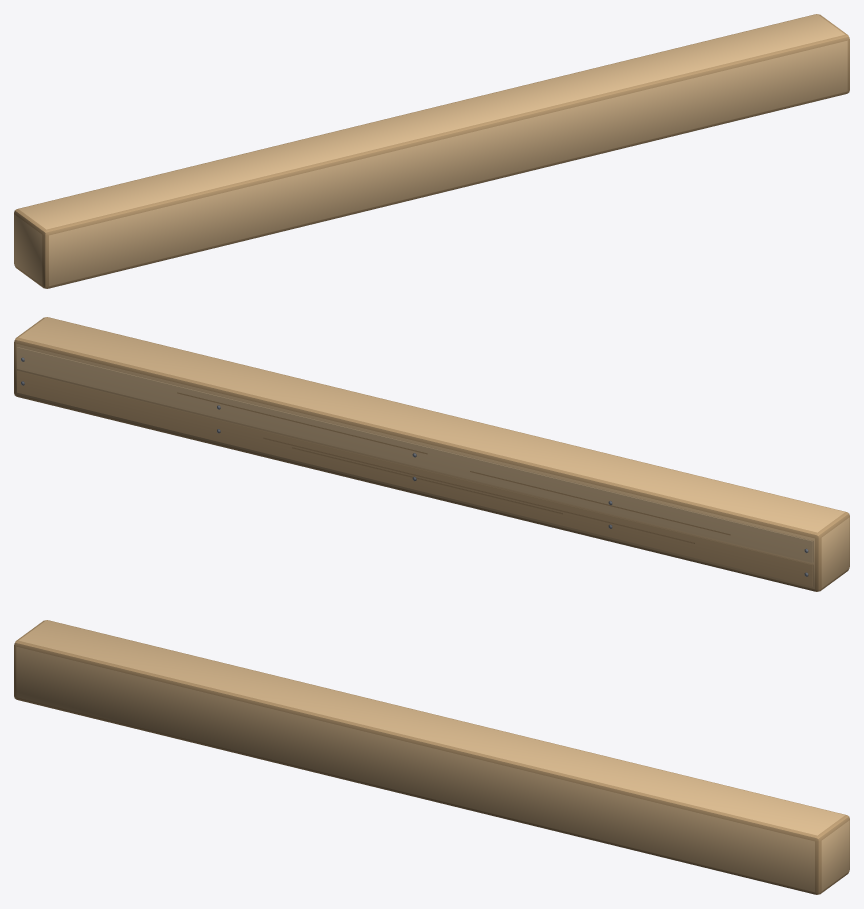
Rendered from PlankLargeWood.fbx.
The picture shows the model from 3 angles, top to bottom: view 1: azimuth 30°, elevation 25°; view 2: azimuth 150°, elevation 25°; view 3: azimuth 330°, elevation 25°; orthographic projection.
Parts seen in each view (by area): view 1: PlankLargeWood; view 2: PlankLargeWood; view 3: PlankLargeWood.
Boxes of the visible parts, x1,y1,x2,y2 form: PlankLargeWood: (14, 14, 849, 288); PlankLargeWood: (14, 317, 849, 591); PlankLargeWood: (14, 620, 849, 894).
Bounding box in the file's own units: 19.95 × 1.4 × 1.46.
